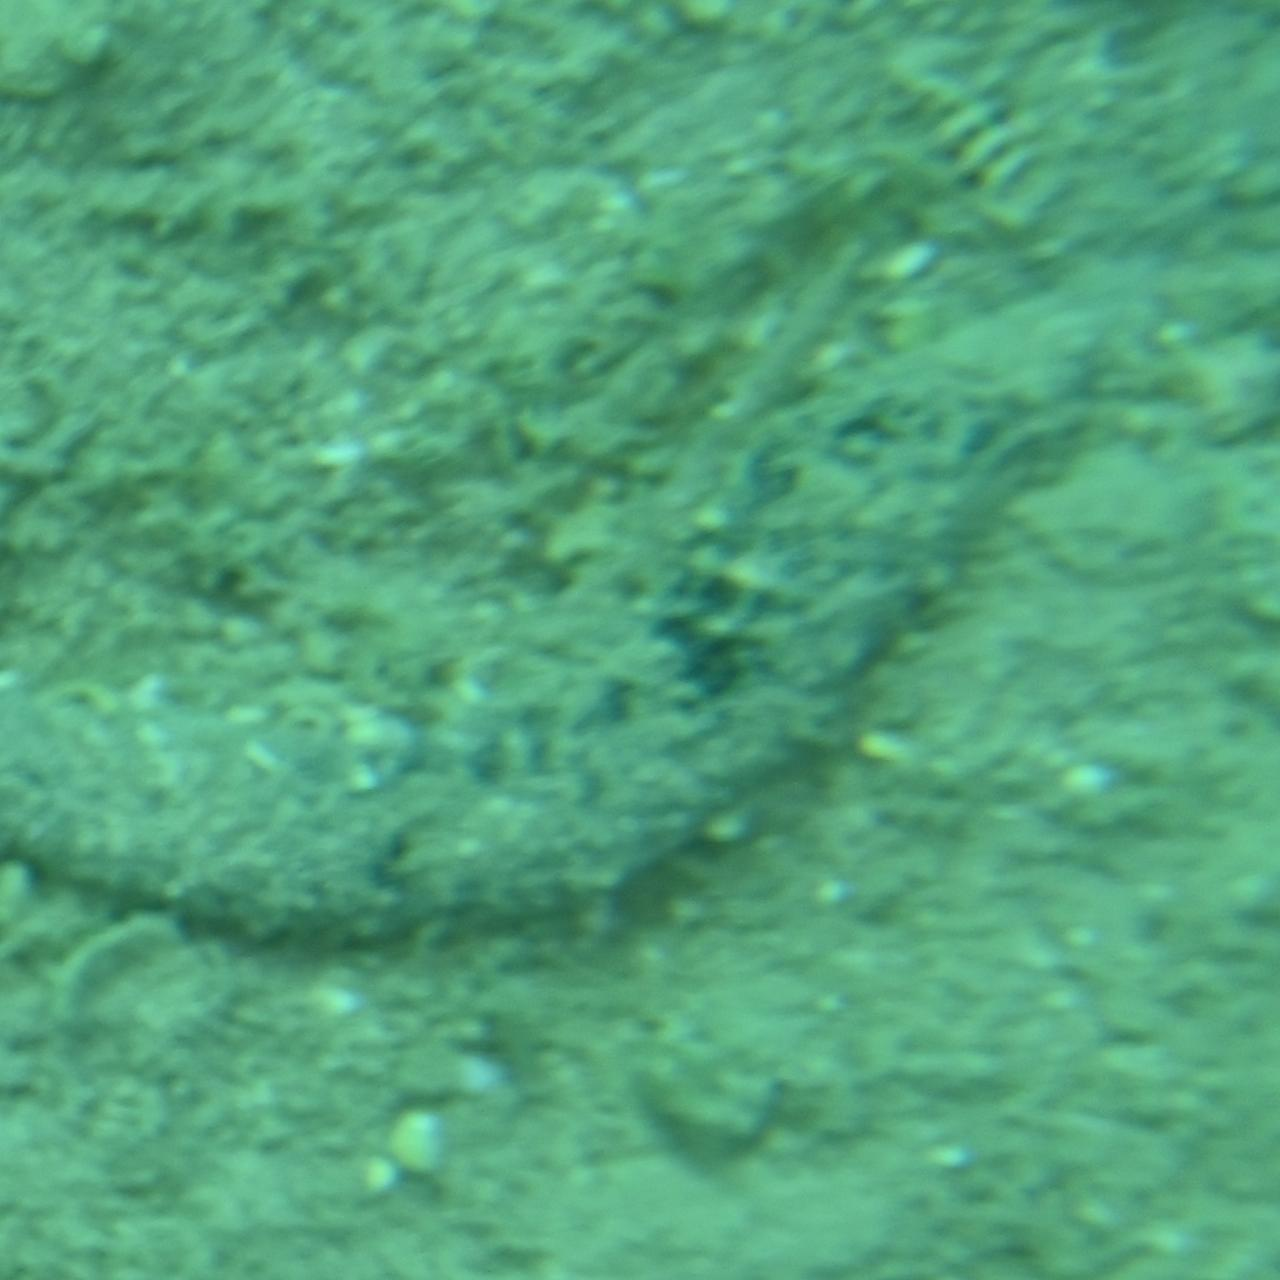Holothuria tubulosa: (0, 310, 1280, 970)
